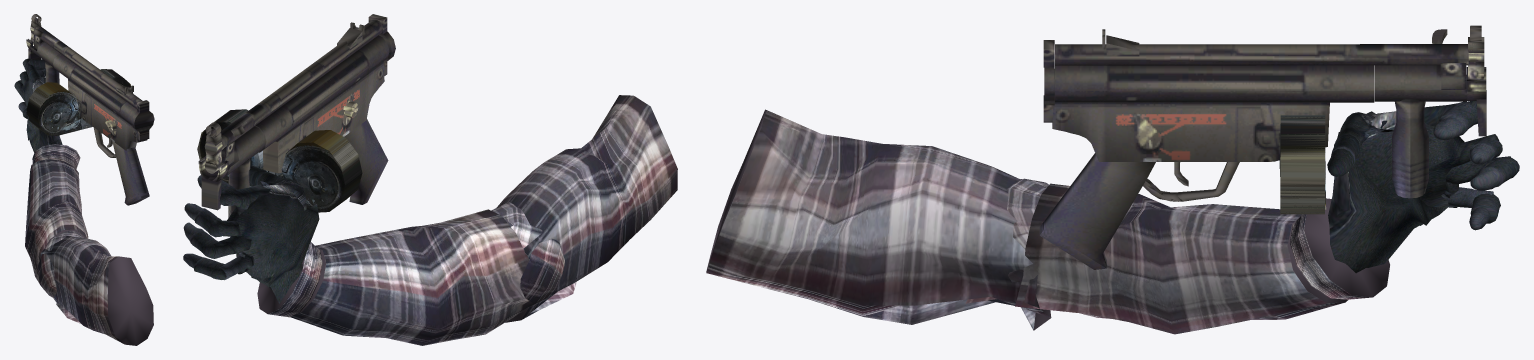
File: mp5kex_ads_fire.fbx
The picture shows the model from 3 angles, left to right: view 1: azimuth 30°, elevation 25°; view 2: azimuth 150°, elevation 25°; view 3: azimuth 270°, elevation 25°; orthographic projection. The views are drawn at different scales.
Parts seen in each view (by area): view 1: larm, mp5k_body, cmag, lhand, pistol_grip_mp5k, mp5k_grip, mp5kRear, mp5k_guard; view 2: larm, lhand, mp5k_body, cmag, mp5k_grip, pistol_grip_mp5k, mp5k_barrel, mp5kRear; view 3: larm, mp5k_body, lhand, mp5k_grip, pistol_grip_mp5k, cmag, mp5k_guard, mp5kRear.
Part boxes in pixels (x1,y1,x2,y2): larm: (25, 144, 153, 345); mp5k_body: (34, 26, 147, 150); cmag: (26, 69, 130, 135); lhand: (14, 58, 62, 152); pistol_grip_mp5k: (112, 141, 149, 205); mp5k_grip: (26, 34, 59, 83); mp5kRear: (131, 100, 154, 140); mp5k_guard: (93, 127, 115, 157); larm: (257, 95, 677, 345); lhand: (183, 165, 319, 303); mp5k_body: (213, 19, 389, 173); cmag: (197, 109, 362, 212); mp5k_grip: (198, 126, 264, 217); pistol_grip_mp5k: (344, 119, 388, 204); mp5k_barrel: (204, 141, 222, 173); mp5kRear: (368, 14, 395, 75); larm: (706, 109, 1389, 334); mp5k_body: (1052, 44, 1468, 161); lhand: (1327, 101, 1519, 273); mp5k_grip: (1374, 63, 1486, 198); pistol_grip_mp5k: (1039, 153, 1155, 269); cmag: (1279, 115, 1326, 214); mp5k_guard: (1143, 162, 1239, 201); mp5kRear: (1043, 40, 1054, 122).
Size of the model in its own units: 10.87 by 12.17 by 23.54.
Materials: 4 (4 with a texture image).
